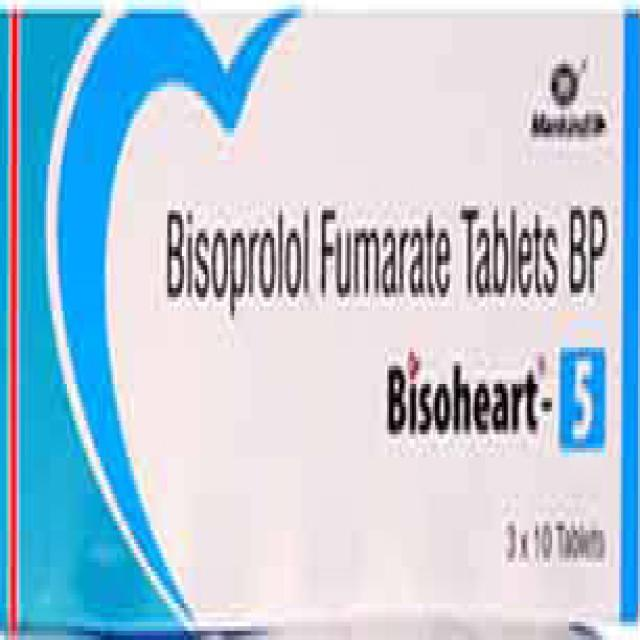drug-name: (370, 344, 611, 454)
